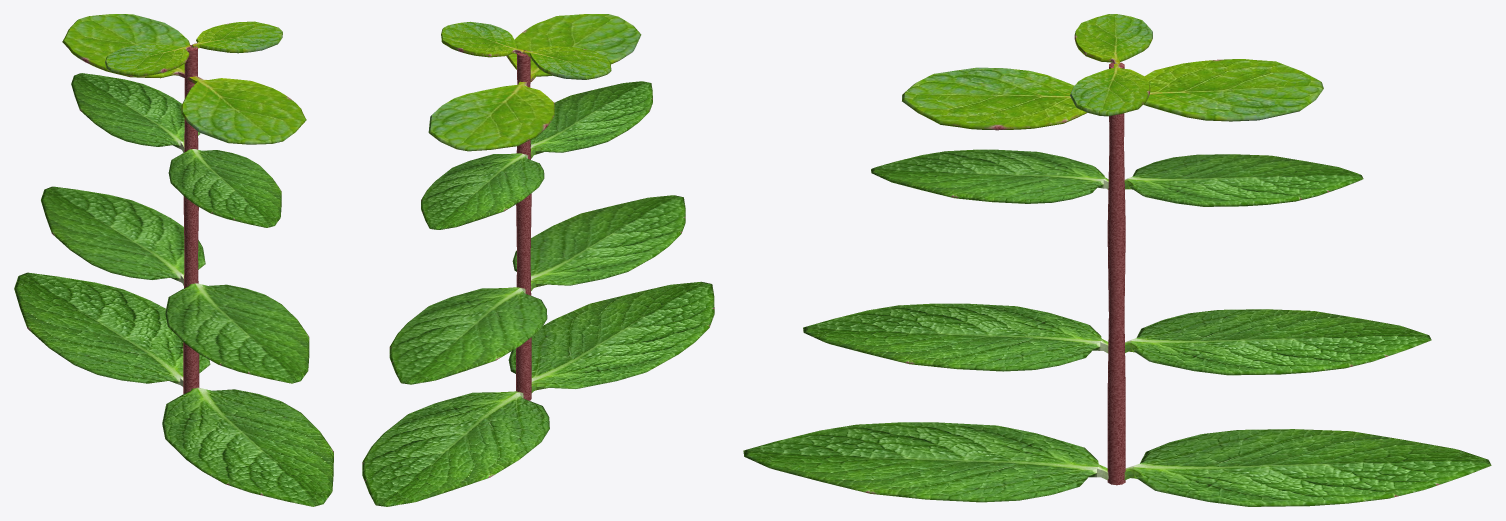
Rendered from bohe.FBX.
3 renders of one model, left to right at view 1: azimuth 30°, elevation 25°; view 2: azimuth 150°, elevation 25°; view 3: azimuth 270°, elevation 25°, orthographic. The views are drawn at different scales.
Parts seen in each view (by area): view 1: Line003, Line001, Line005, Line004, Line008, Line007, Line006, Line002, Cylinder001, Line009, Line010; view 2: Line001, Line003, Line004, Line005, Line002, Line006, Line007, Line008, Cylinder001, Line010, Line009; view 3: Line003, Line001, Line005, Line004, Line007, Line006, Line002, Line008, Cylinder001, Line009, Line010.
Boxes of the visible parts, left/top/right/bottom form: Line003: left=162, top=387, right=333, bottom=506; Line001: left=14, top=272, right=210, bottom=386; Line005: left=165, top=283, right=309, bottom=383; Line004: left=41, top=186, right=205, bottom=285; Line008: left=181, top=76, right=306, bottom=144; Line007: left=168, top=149, right=281, bottom=227; Line006: left=71, top=73, right=200, bottom=152; Line002: left=62, top=14, right=189, bottom=78; Cylinder001: left=183, top=45, right=199, bottom=393; Line009: left=191, top=21, right=282, bottom=53; Line010: left=105, top=44, right=191, bottom=76; Line001: left=362, top=391, right=549, bottom=506; Line003: left=508, top=281, right=714, bottom=392; Line004: left=389, top=287, right=547, bottom=384; Line005: left=512, top=195, right=685, bottom=290; Line002: left=428, top=81, right=554, bottom=151; Line006: left=421, top=153, right=544, bottom=229; Line007: left=530, top=81, right=652, bottom=158; Line008: left=506, top=14, right=641, bottom=81; Cylinder001: left=516, top=50, right=531, bottom=400; Line010: left=522, top=46, right=611, bottom=79; Line009: left=441, top=21, right=524, bottom=57; Line003: left=743, top=422, right=1108, bottom=502; Line001: left=1124, top=429, right=1491, bottom=506; Line005: left=803, top=303, right=1108, bottom=371; Line004: left=1125, top=309, right=1431, bottom=375; Line007: left=871, top=149, right=1108, bottom=203; Line006: left=1124, top=154, right=1363, bottom=206; Line002: left=1143, top=59, right=1323, bottom=121; Line008: left=902, top=67, right=1087, bottom=130; Cylinder001: left=1107, top=62, right=1125, bottom=485; Line009: left=1070, top=64, right=1150, bottom=116; Line010: left=1074, top=14, right=1152, bottom=64.
Bounding box in the file's own units: 10.07 × 19.81 × 31.99.
Materials: 1 (1 with a texture image).
